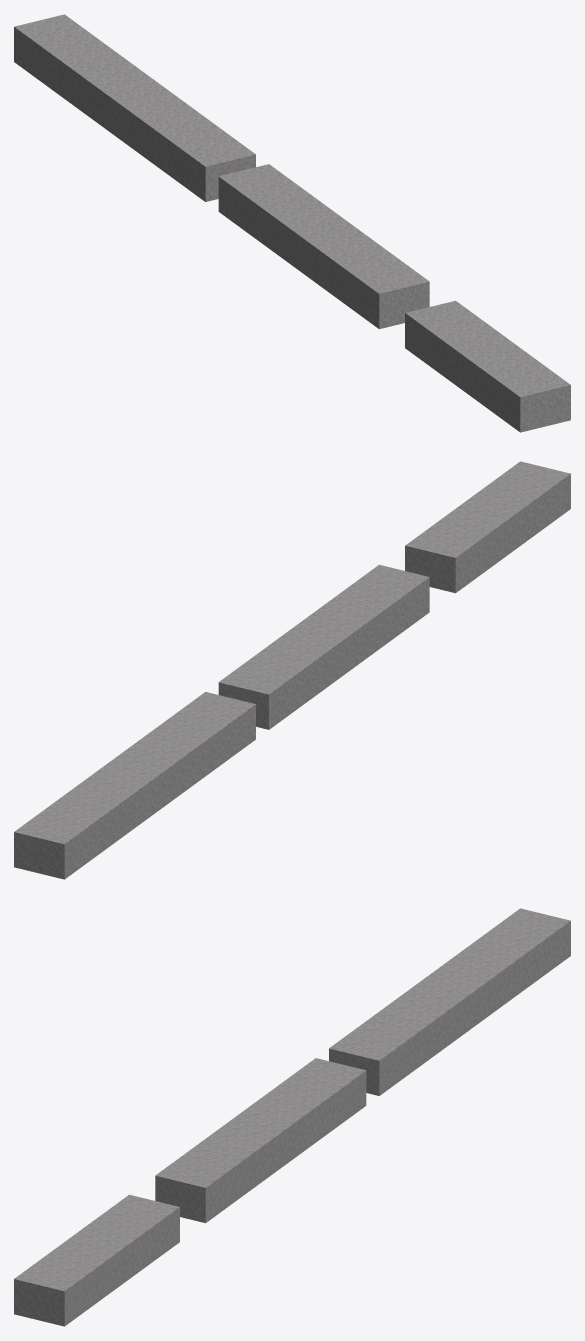
3 renders of one model, top to bottom at view 1: azimuth 30°, elevation 25°; view 2: azimuth 150°, elevation 25°; view 3: azimuth 330°, elevation 25°, orthographic.
Visible parts, largest first — view 1: 0_0_2_1_2_3_0_3; view 2: 0_0_2_1_2_3_0_3; view 3: 0_0_2_1_2_3_0_3.
Part boxes in pixels (x1,y1,x2,y2): 0_0_2_1_2_3_0_3: [14, 14, 570, 432]; 0_0_2_1_2_3_0_3: [14, 461, 570, 879]; 0_0_2_1_2_3_0_3: [14, 908, 570, 1326].
Bounding box in the file's own units: 0.9 × 0.6 × 15.6.
Materials: 3 (3 with a texture image).
